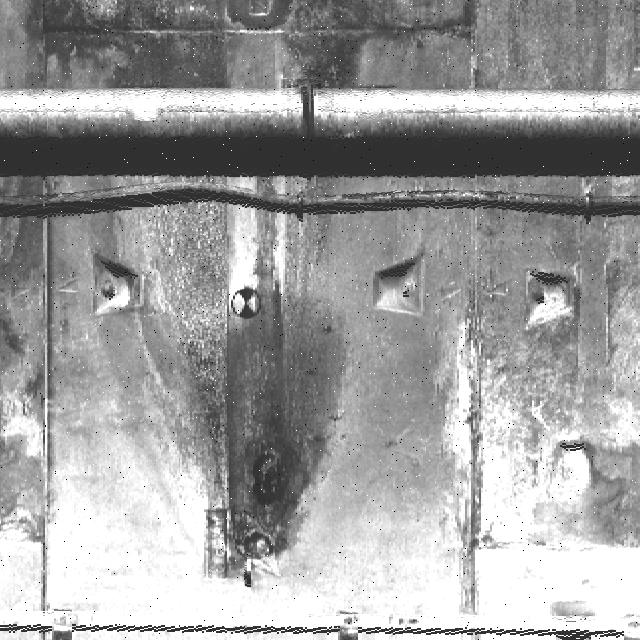leakage: (127, 182, 356, 585), (18, 1, 478, 95)
